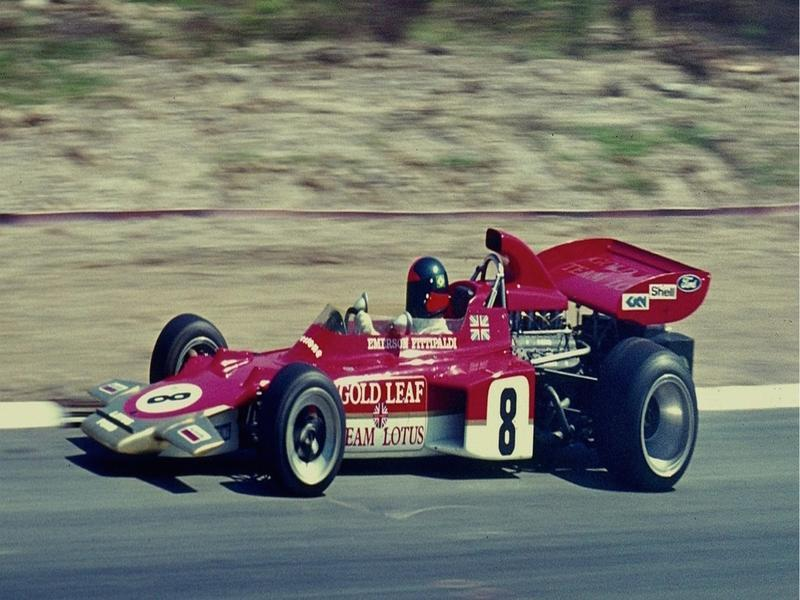f1: (60, 185, 784, 520)
